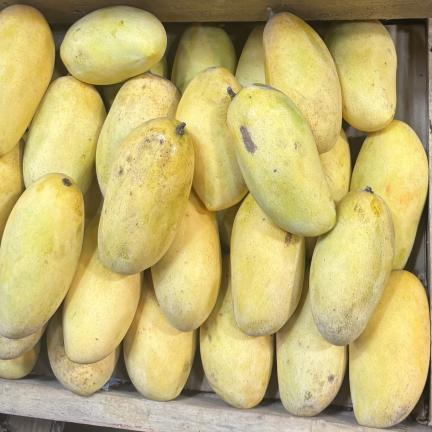mango: (227, 83, 336, 237), (228, 84, 336, 237), (98, 118, 194, 275), (60, 6, 166, 85)
occluded: (0, 173, 84, 339), (309, 186, 395, 346), (349, 270, 430, 427), (62, 213, 142, 364), (350, 120, 428, 270), (263, 7, 342, 154), (200, 255, 274, 408), (276, 264, 348, 416), (231, 193, 305, 336), (96, 72, 180, 197), (176, 67, 248, 211), (151, 188, 221, 332), (123, 269, 198, 401), (23, 76, 106, 195), (0, 4, 55, 156), (325, 20, 397, 132), (46, 305, 122, 395), (171, 23, 236, 94), (0, 137, 25, 242), (319, 128, 351, 205), (235, 24, 265, 86), (0, 324, 47, 360), (0, 341, 41, 379), (150, 54, 168, 78), (306, 371, 306, 371)
